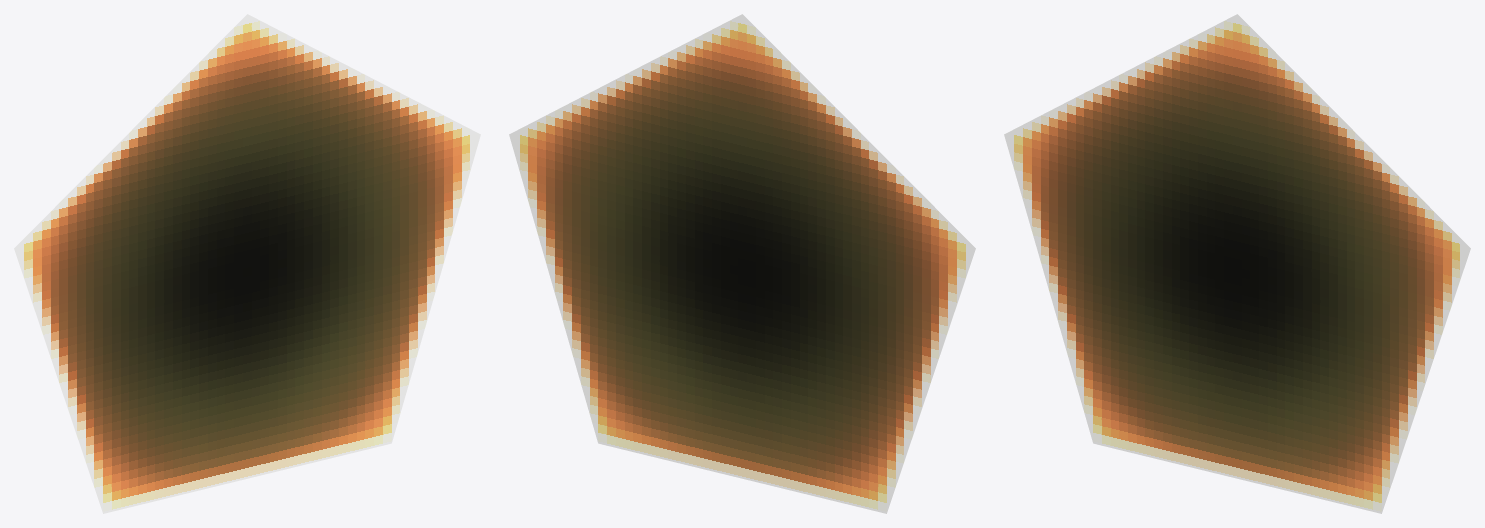
The picture shows the model from 3 angles, left to right: view 1: azimuth 30°, elevation 25°; view 2: azimuth 150°, elevation 25°; view 3: azimuth 330°, elevation 25°; orthographic projection.
Visible parts, largest first — view 1: layer_00_oe821U00; view 2: layer_00_oe821U00; view 3: layer_00_oe821U00.
Part boxes in pixels (x1,y1,x2,y2): layer_00_oe821U00: (14,14,480,513); layer_00_oe821U00: (509,14,975,513); layer_00_oe821U00: (1004,14,1470,513).
Bounding box in the file's own units: 47.11 × 44.81 × 3.38e-06.
Materials: 1 (1 with a texture image).
